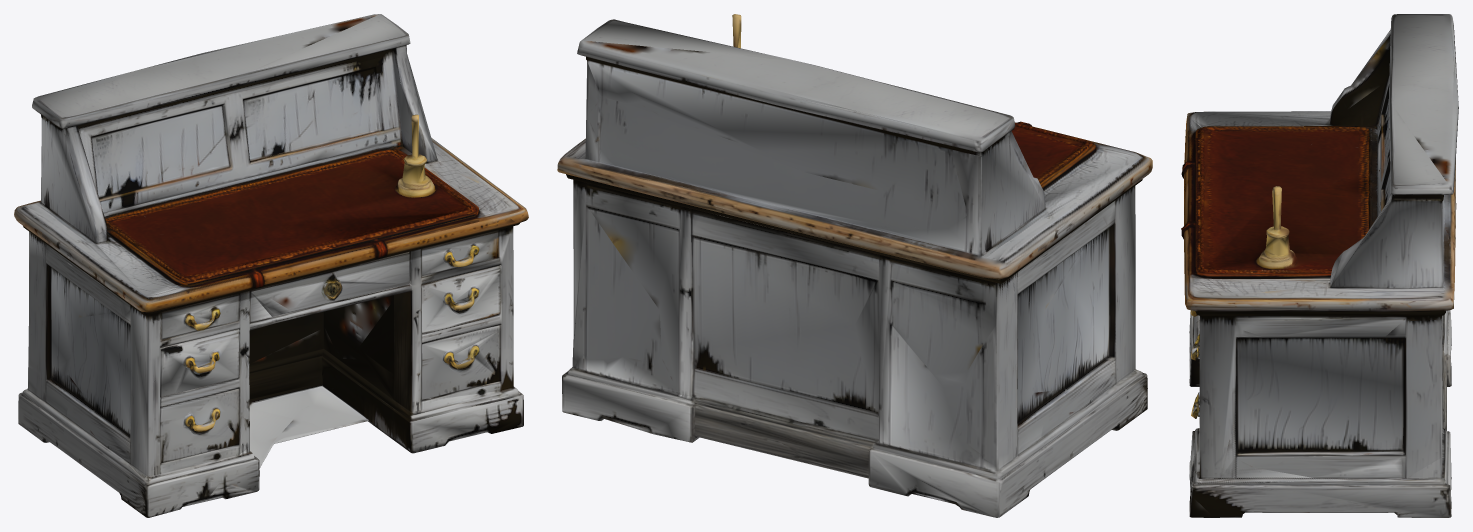
The model's file is lhi_keeper_desk.glb.
The picture shows the model from 3 angles, left to right: view 1: azimuth 30°, elevation 25°; view 2: azimuth 150°, elevation 25°; view 3: azimuth 270°, elevation 25°; orthographic projection. The views are drawn at different scales.
Parts seen in each view (by area): view 1: material; view 2: material; view 3: material.
Boxes of the visible parts, x1=… form: material: x1=14, y1=14, x2=528, y2=517; material: x1=557, y1=14, x2=1152, y2=517; material: x1=1181, y1=14, x2=1458, y2=517.
Size of the model in its own units: 0.8695 by 0.6954 by 0.5338.
1 material, 1 textured.
